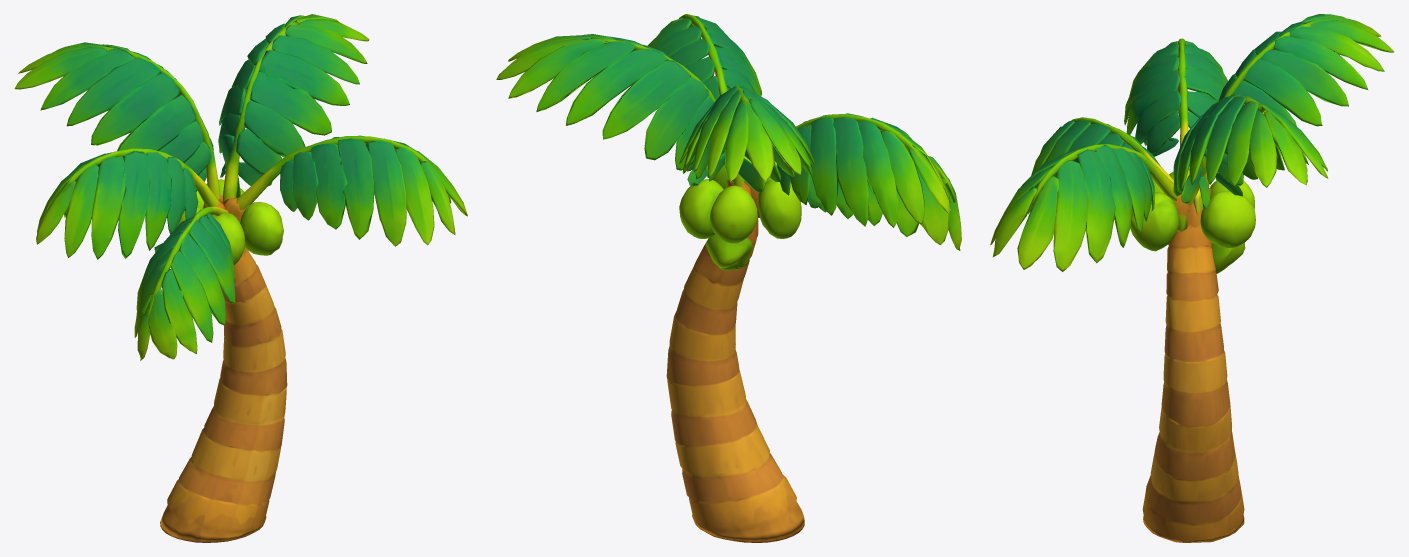
Rendered from Meshy_AI_ac_palm_tree_3d_1102122704_texture.glb.
The picture shows the model from 3 angles, left to right: view 1: azimuth 30°, elevation 25°; view 2: azimuth 150°, elevation 25°; view 3: azimuth 270°, elevation 25°; orthographic projection. The views are drawn at different scales.
Visible parts, largest first — view 1: geometry_0; view 2: geometry_0; view 3: geometry_0.
Part boxes in pixels (x1,y1,x2,y2): geometry_0: (14, 14, 467, 542); geometry_0: (496, 14, 961, 542); geometry_0: (990, 14, 1394, 542).
Size of the model in its own units: 2.61 by 3 by 2.33.
1 material, 1 textured.
